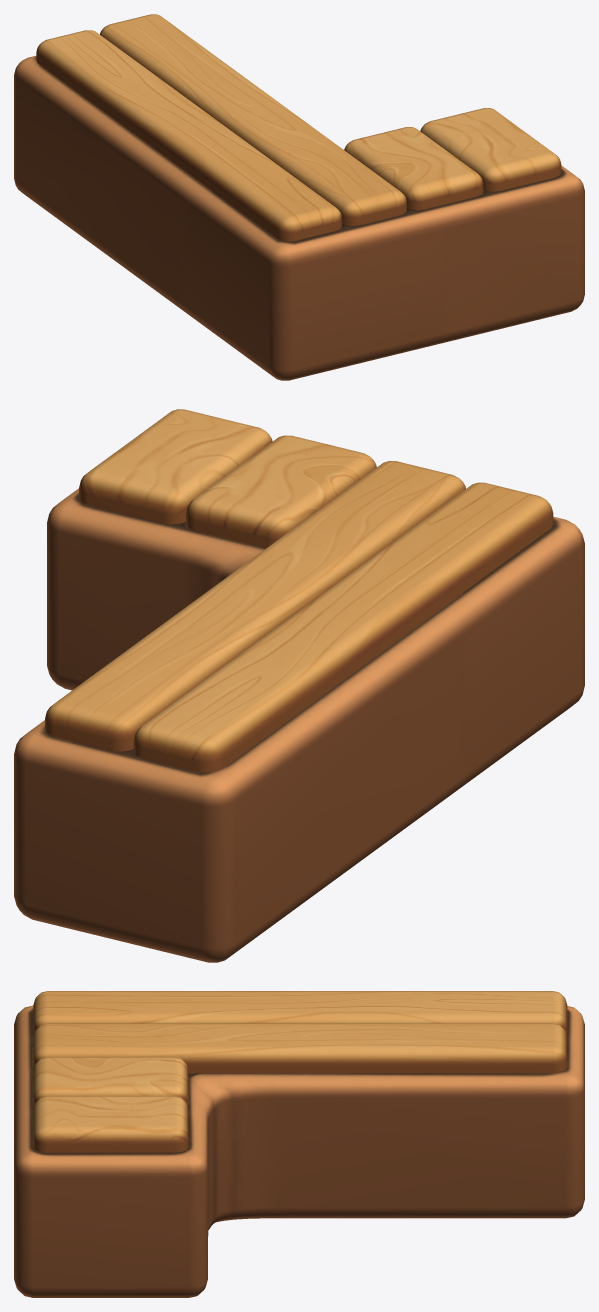
The model's file is WoodenBox_L_2x3.fbx.
3 views of the same model, one above another, from view 1: azimuth 30°, elevation 25°; view 2: azimuth 150°, elevation 25°; view 3: azimuth 270°, elevation 25° (orthographic). The views are drawn at different scales.
Parts seen in each view (by area): view 1: boxL_2x3; view 2: boxL_2x3; view 3: boxL_2x3.
Part boxes in pixels (x1,y1,x2,y2): boxL_2x3: (14,14,584,380); boxL_2x3: (14,409,584,962); boxL_2x3: (14,991,584,1297).
Bounding box in the file's own units: 2.03 × 0.961 × 3.03.
